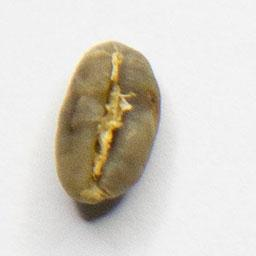peaberry: (52, 37, 165, 208)
